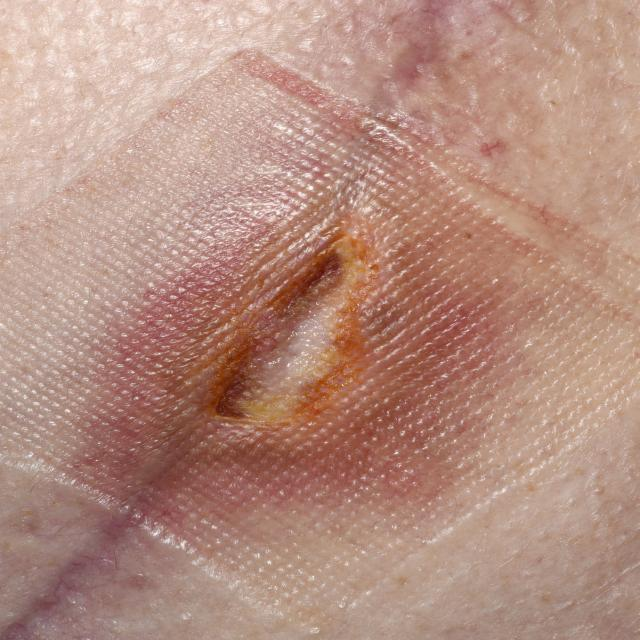wound: (205, 229, 381, 429)
